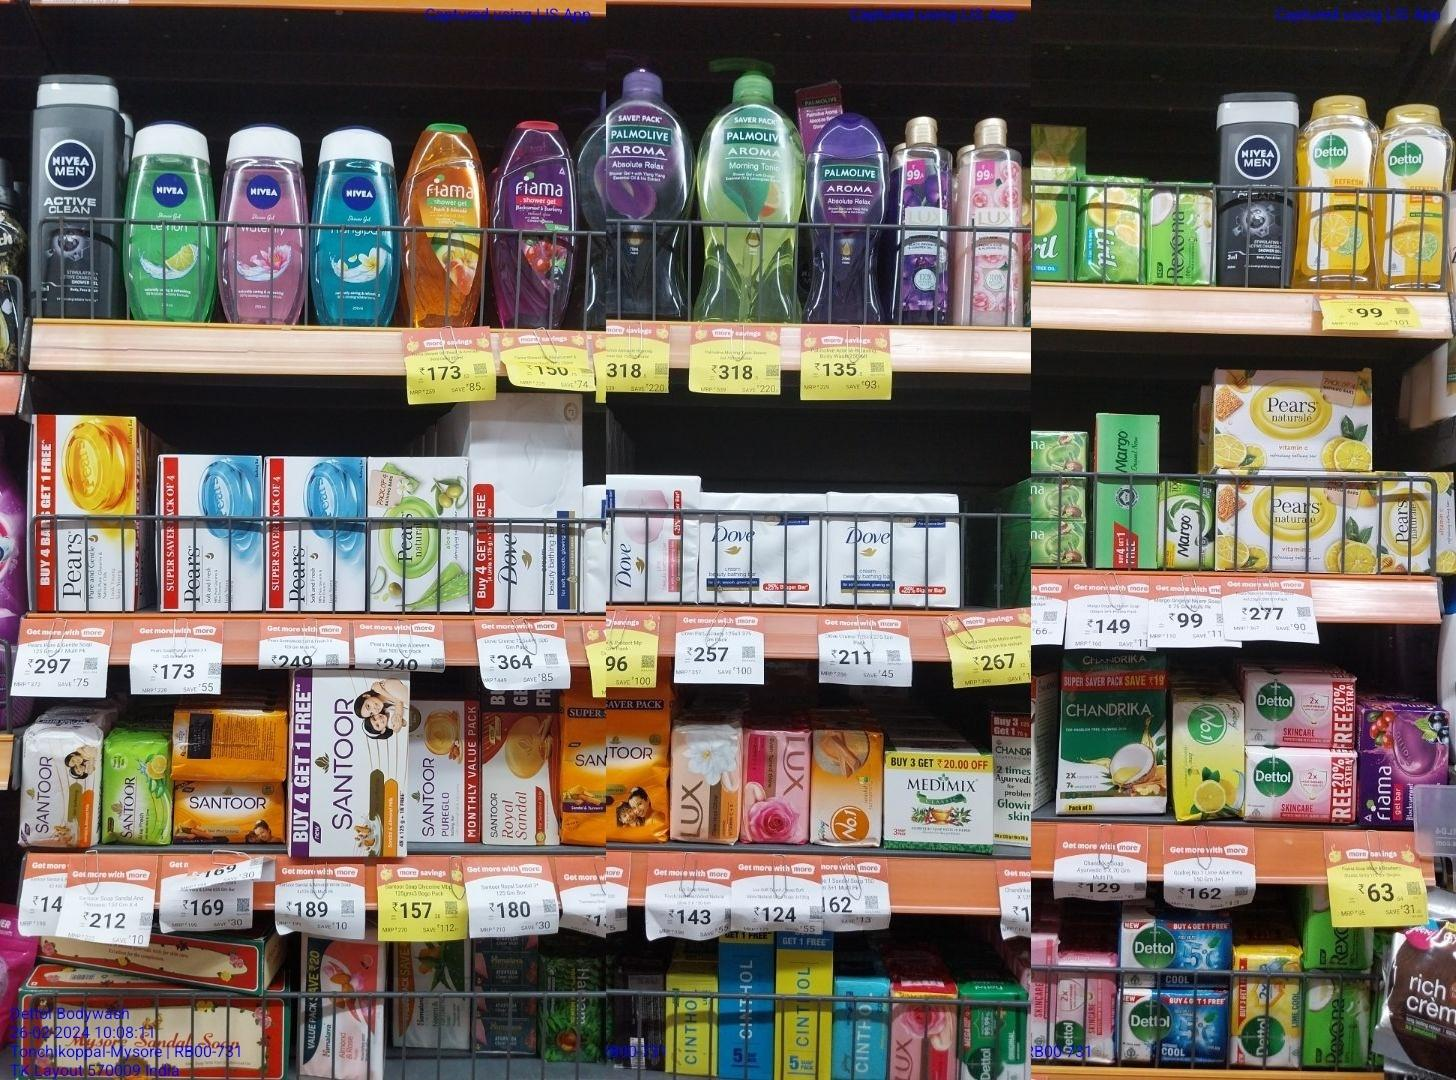Dettol_Bodywash_Refresh: (1300, 95, 1380, 288), (1389, 104, 1450, 288)
Fiama_Shower_Gel_Peach_and_Avocado_250ML: (409, 123, 479, 329)
Lux_Black_Orchid_Scent_and_Juniper_Oil_Body_Wash_245ML: (891, 116, 953, 323)
